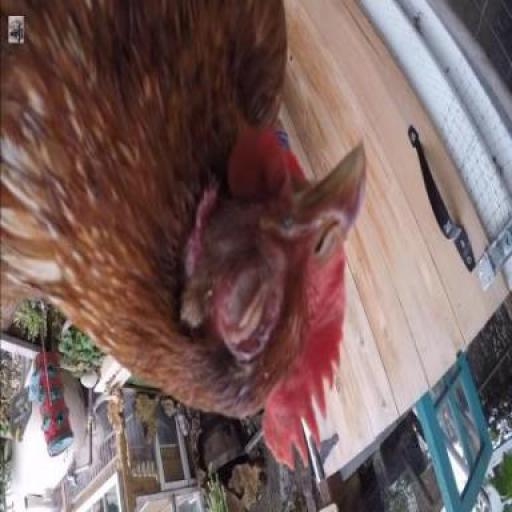disease: (179, 193, 353, 409)
